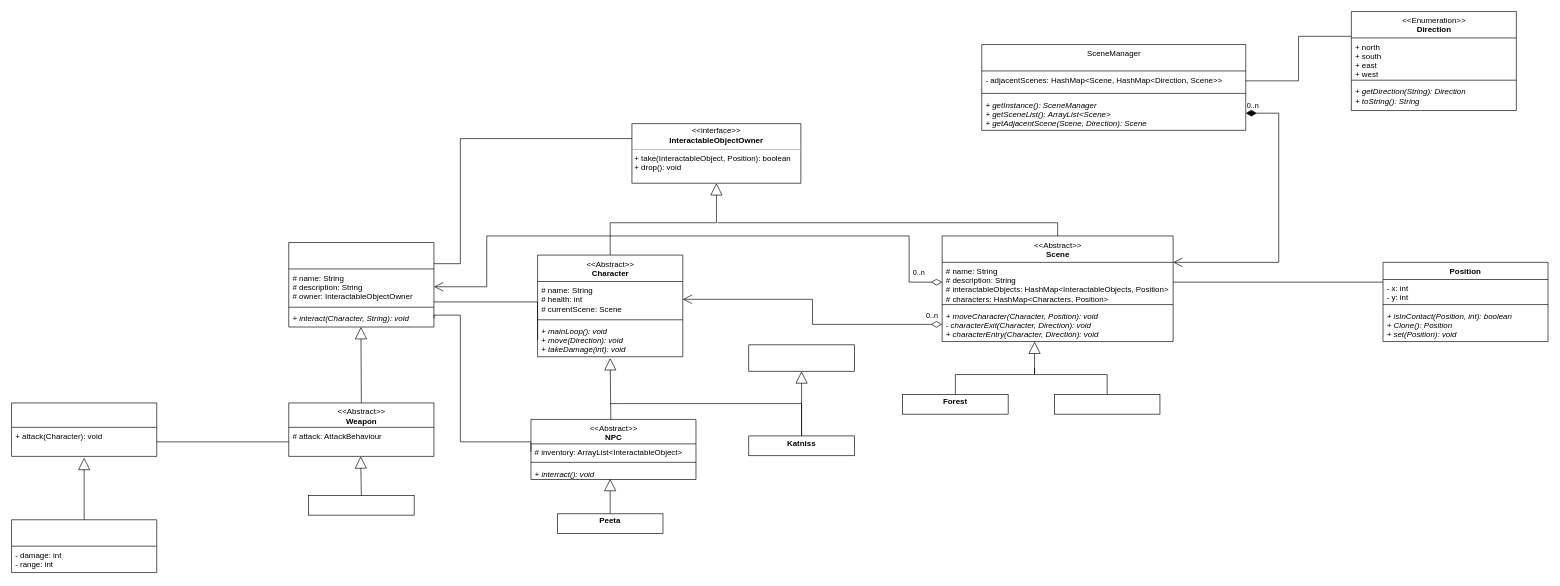
The diagram is 1560 pixels wide and 586 high, and some of its shapes have lost their labels. The box of each missing label's shape, as (x1, y1, x2, y2) in pixels:
<<Abstract>> InteractableObject: (288, 242, 434, 327)
<<interface>> AttackBehaviour: (11, 402, 157, 456)
<<interface>> MainCharacter: (748, 344, 854, 371)
Cornucopia: (1054, 394, 1160, 414)
Dagger: (308, 495, 414, 515)
MeleeAttack: (11, 519, 157, 573)
